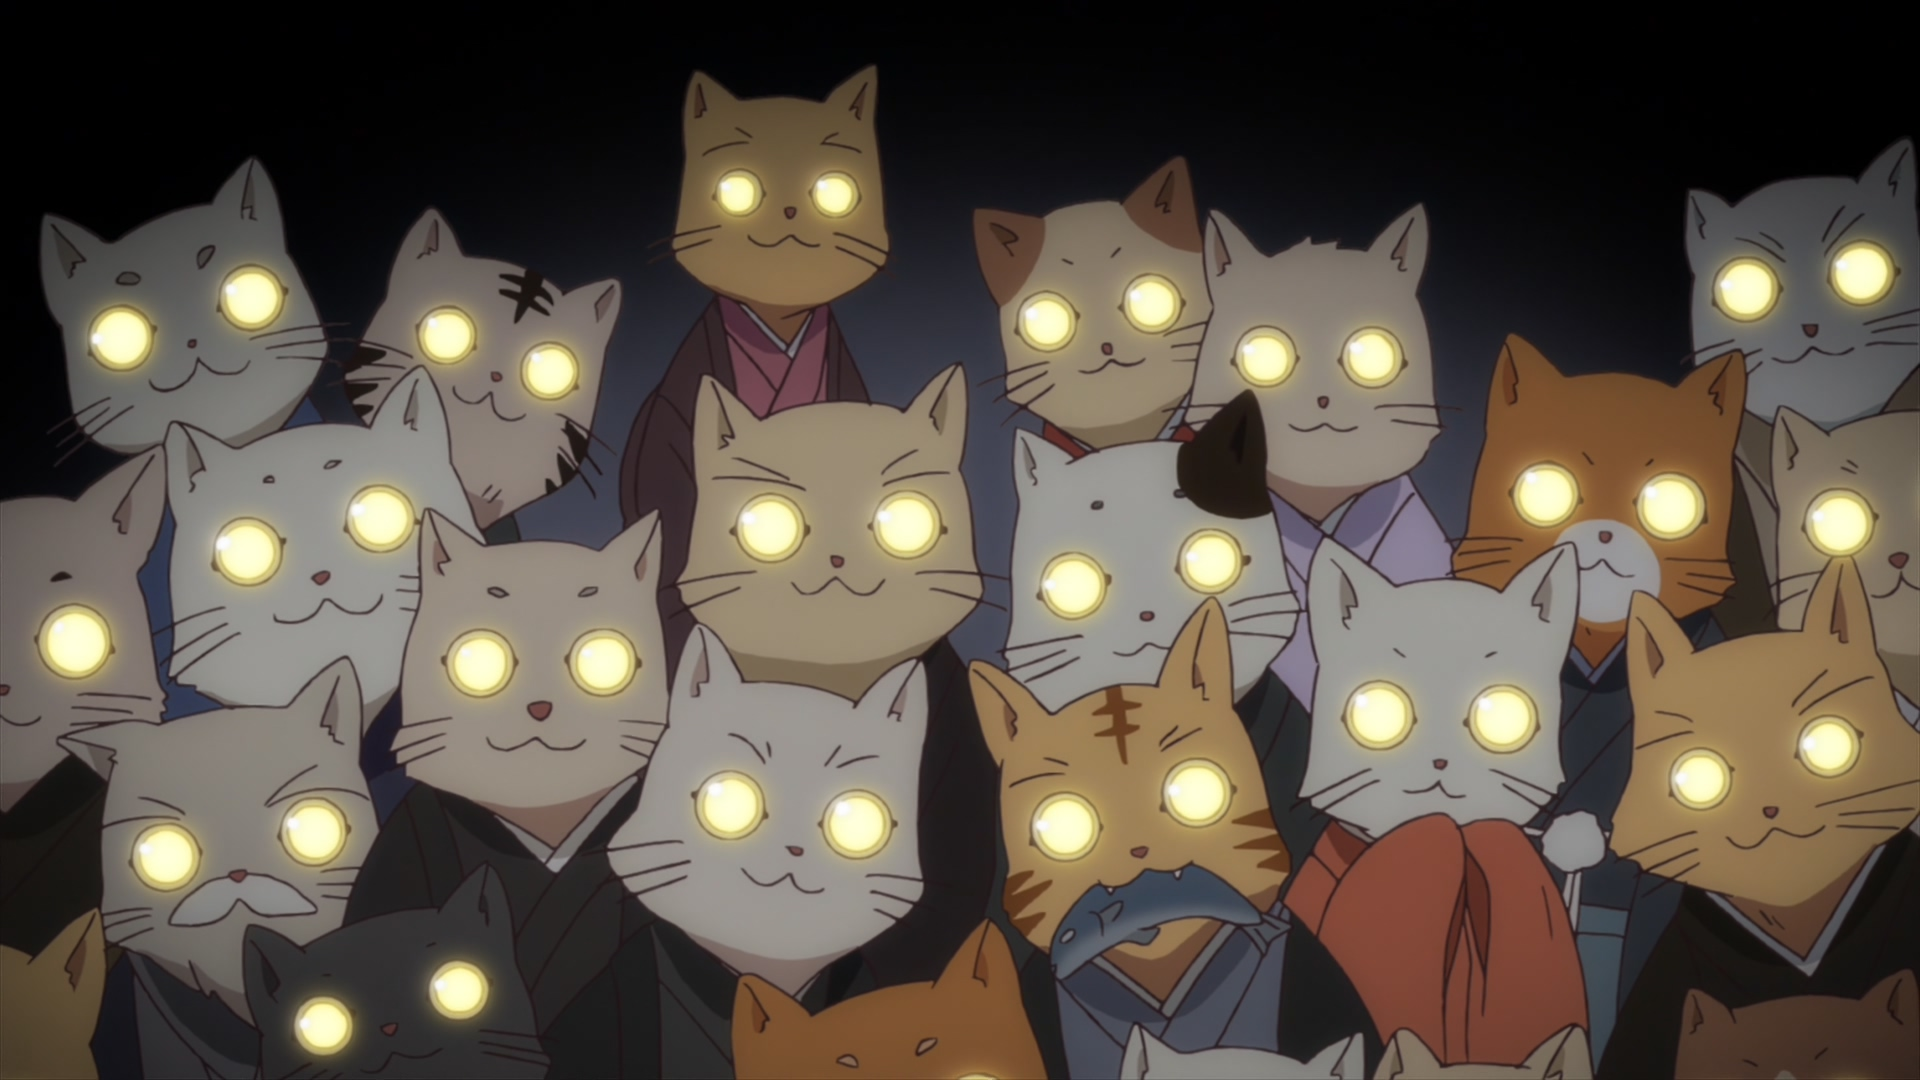其他: (1448, 330, 1749, 1075), (348, 512, 673, 1080), (665, 369, 1001, 915), (42, 160, 357, 715), (1280, 538, 1588, 1080), (622, 69, 890, 687), (1002, 394, 1331, 898), (1605, 556, 1920, 1080), (164, 369, 485, 825), (609, 622, 930, 1080), (1168, 202, 1453, 708), (59, 655, 378, 1080), (1685, 142, 1920, 609), (339, 206, 622, 541), (1, 448, 170, 967), (971, 156, 1212, 454), (244, 869, 545, 1080), (735, 919, 1052, 1080), (1770, 402, 1920, 721), (1669, 976, 1920, 1080), (1, 909, 107, 1080), (1112, 1019, 1367, 1080), (1370, 1026, 1596, 1080)
